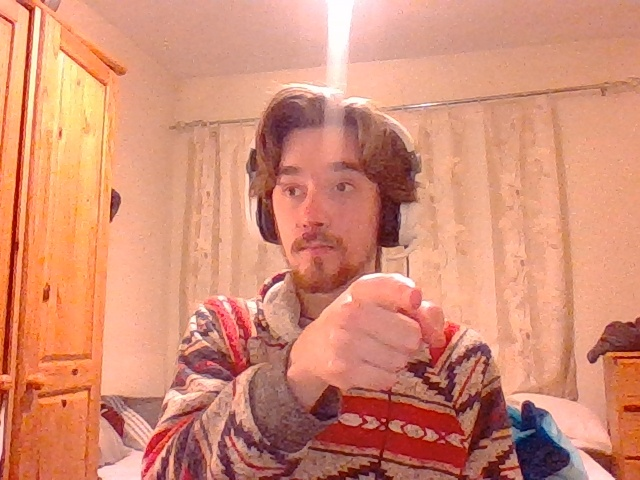you: (296, 272, 446, 389)
